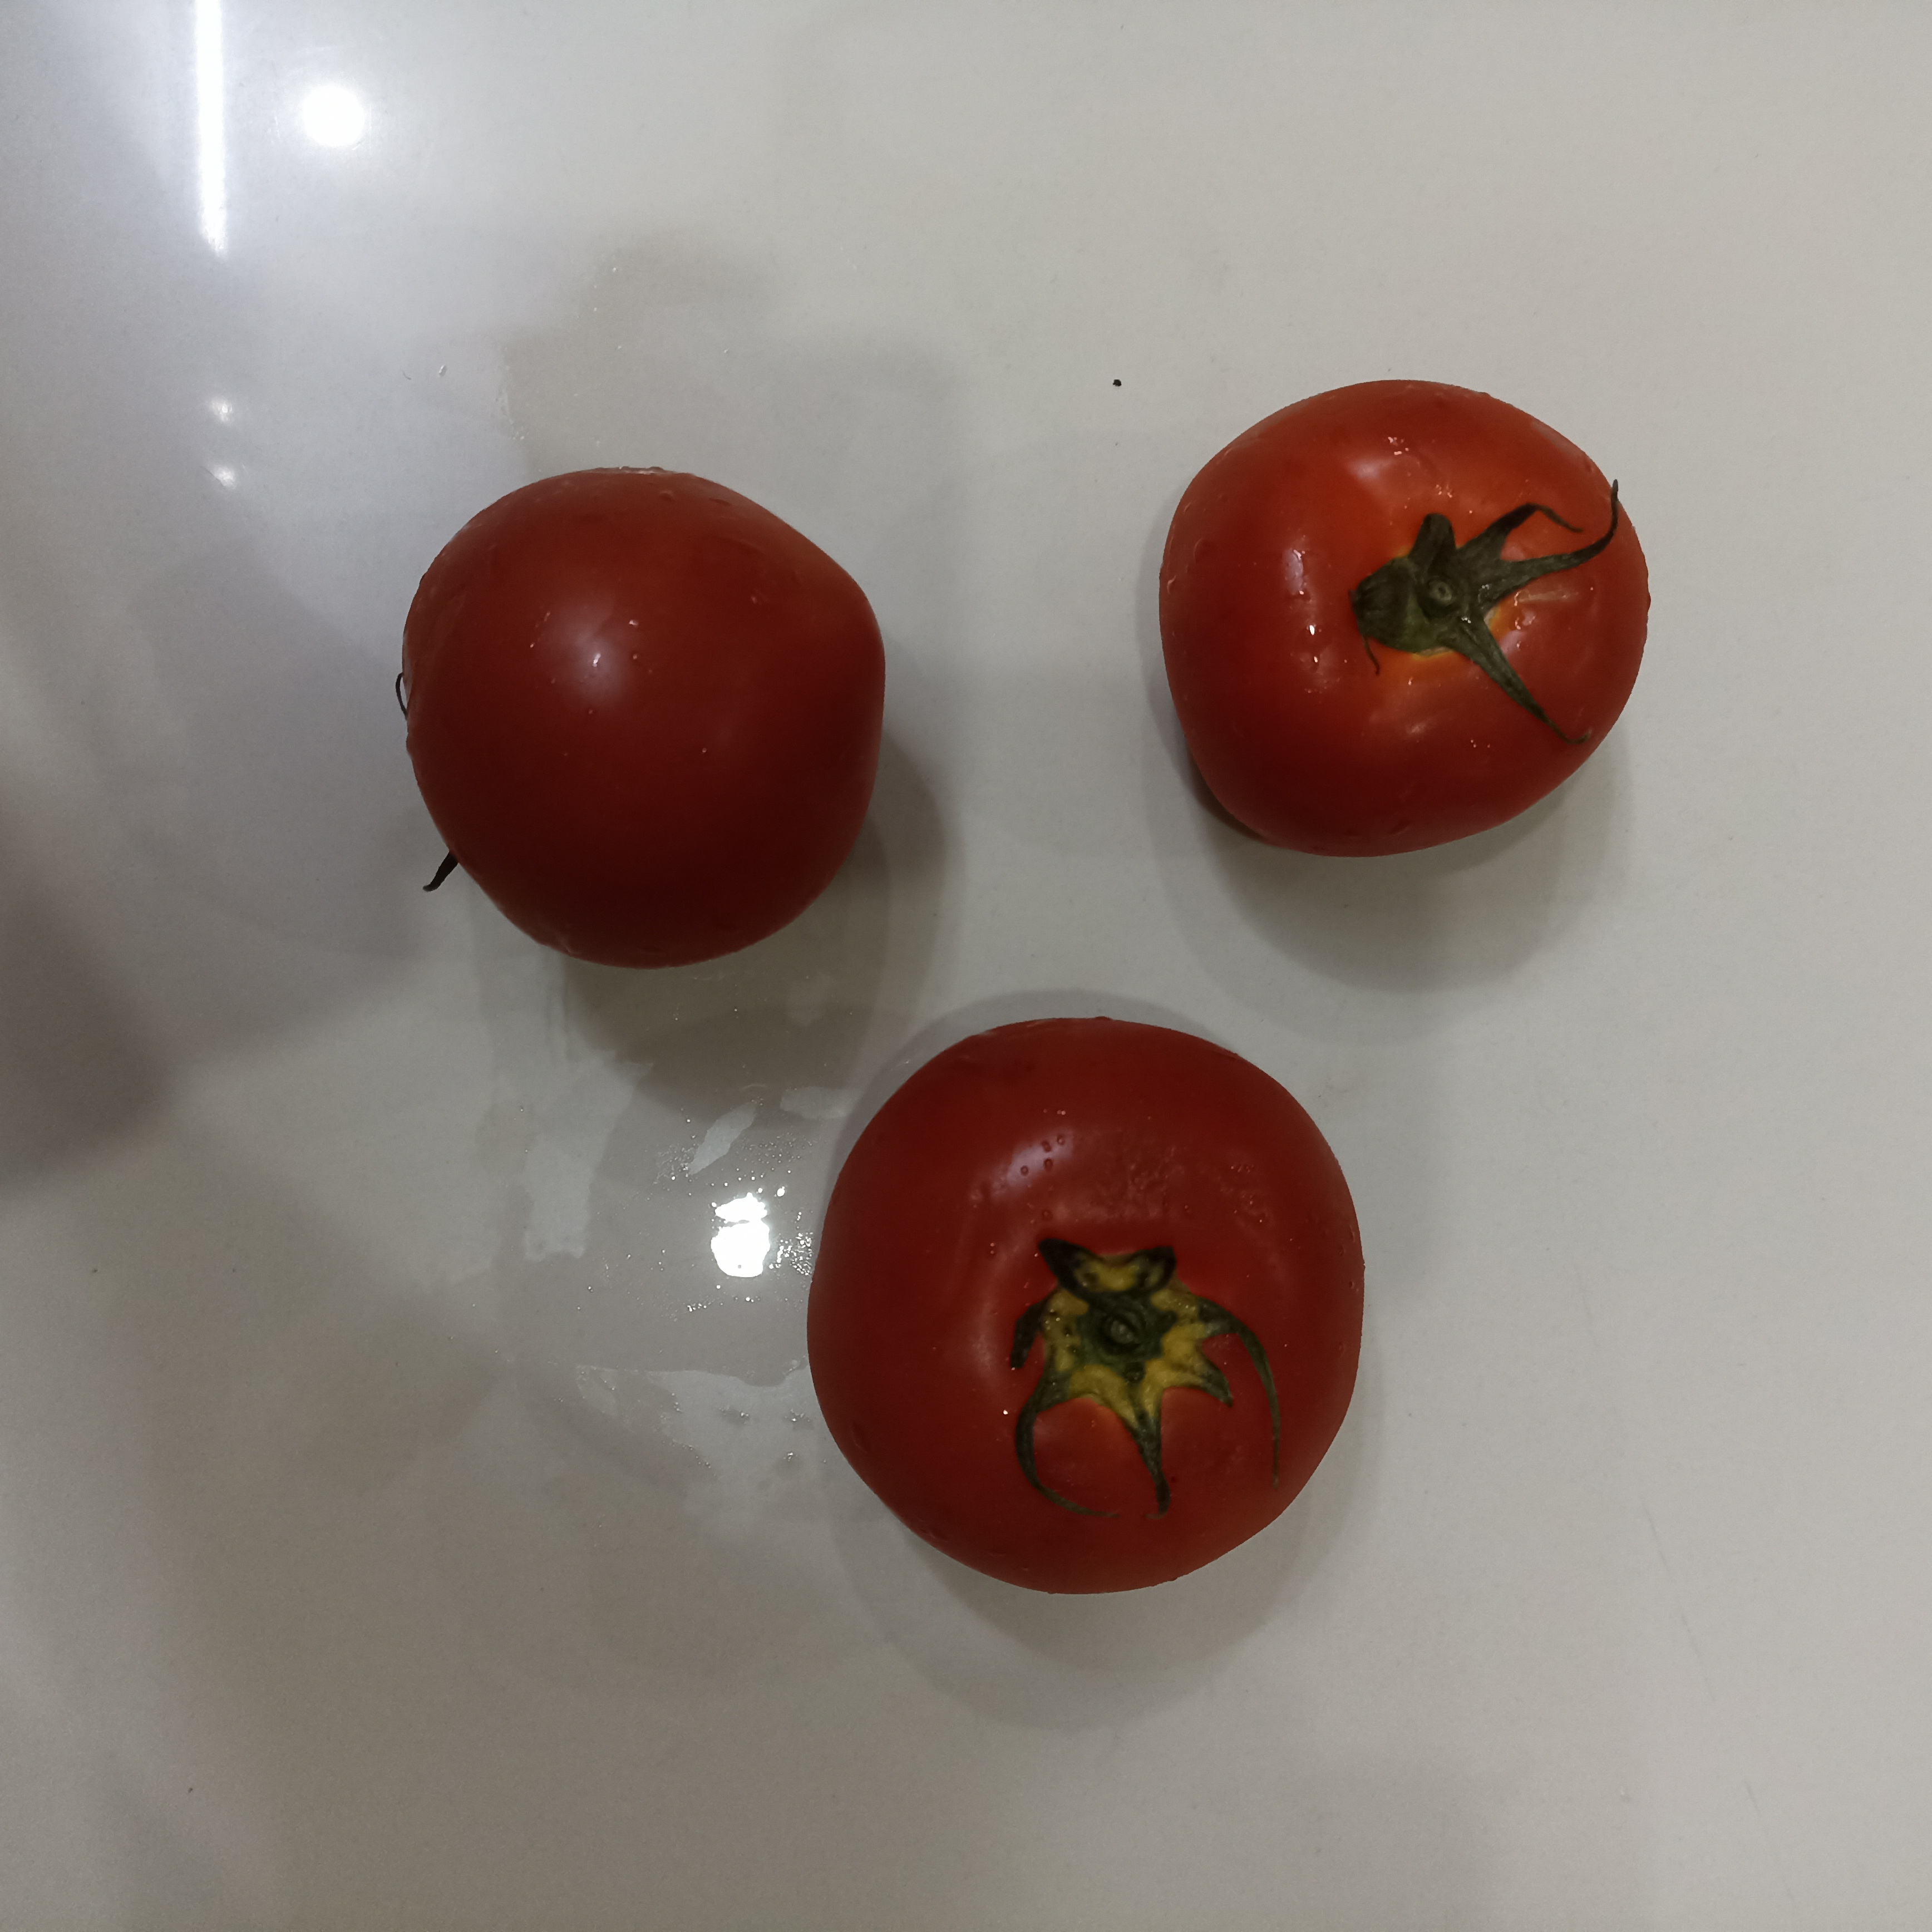Ca chua: (811, 1018, 1367, 1598), (396, 469, 884, 973), (1154, 379, 1653, 857)
